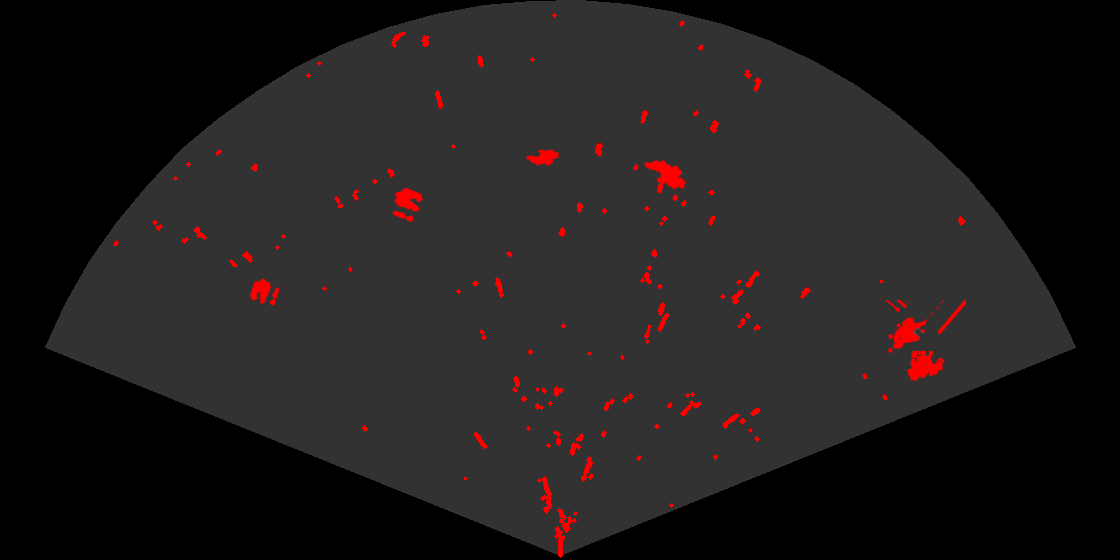AUV: (643, 159, 688, 191), (524, 148, 561, 167)
ball: (391, 186, 425, 223), (248, 277, 281, 308)
cage: (884, 300, 966, 382)
